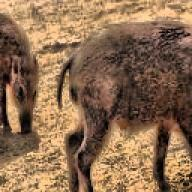boar: (55, 18, 192, 192), (0, 9, 38, 139)
